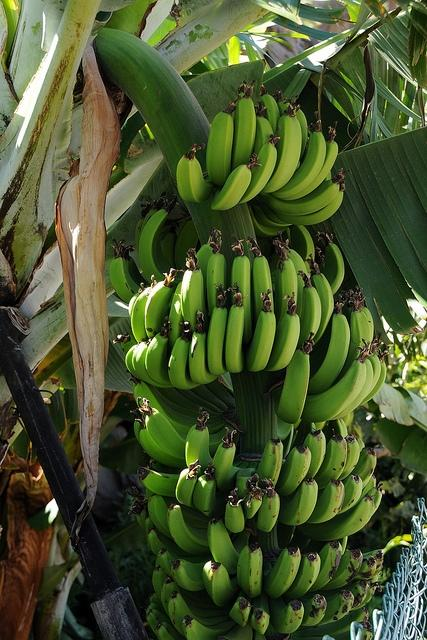banana: (113, 331, 235, 416), (136, 396, 240, 461), (128, 376, 227, 436), (300, 338, 370, 422), (306, 294, 350, 396), (270, 120, 326, 198), (138, 194, 182, 292), (262, 168, 351, 216), (144, 381, 235, 425), (274, 332, 316, 424), (330, 296, 372, 388), (296, 494, 376, 542), (292, 122, 338, 200), (237, 126, 281, 204), (270, 181, 346, 226), (206, 95, 242, 186), (272, 230, 308, 320), (262, 114, 302, 193), (161, 576, 233, 618), (168, 592, 233, 638), (263, 292, 300, 372), (210, 152, 261, 210), (144, 268, 185, 338), (304, 253, 335, 344), (244, 288, 276, 372), (246, 235, 274, 331), (231, 235, 252, 352), (289, 607, 369, 637), (188, 310, 220, 384), (168, 322, 202, 391), (167, 504, 211, 556), (176, 144, 214, 204), (278, 470, 318, 526), (180, 248, 206, 333), (132, 337, 175, 388), (357, 346, 392, 408), (193, 460, 231, 517), (206, 283, 229, 375), (230, 92, 256, 172), (296, 270, 322, 350), (313, 429, 347, 490), (274, 244, 298, 330), (262, 546, 300, 600), (212, 428, 242, 496), (110, 237, 140, 305), (139, 428, 188, 469), (274, 444, 312, 496), (236, 528, 263, 599), (145, 316, 172, 385), (320, 548, 364, 590), (208, 518, 241, 574), (225, 293, 248, 373), (202, 560, 242, 606), (283, 552, 321, 600), (307, 540, 342, 592), (186, 408, 212, 478), (305, 478, 345, 523), (341, 444, 379, 490), (157, 548, 212, 578), (146, 528, 200, 558), (284, 95, 308, 162), (176, 458, 202, 514), (206, 252, 228, 318), (267, 595, 304, 634), (314, 590, 354, 626), (247, 203, 288, 238), (256, 438, 284, 489), (182, 615, 238, 640), (137, 466, 180, 498), (362, 332, 382, 400), (170, 559, 212, 591), (196, 232, 213, 310), (336, 556, 377, 588), (289, 224, 315, 274), (256, 478, 280, 532), (175, 218, 199, 270), (148, 492, 173, 540), (175, 388, 223, 413), (322, 242, 344, 296), (254, 100, 275, 156), (303, 428, 326, 479), (131, 287, 151, 343), (168, 281, 184, 350), (242, 474, 267, 518), (356, 286, 374, 344), (336, 474, 362, 514), (124, 250, 151, 288), (296, 594, 327, 626), (224, 487, 245, 533), (126, 486, 147, 532), (192, 384, 229, 410), (340, 432, 360, 480), (229, 589, 254, 627), (161, 222, 180, 269), (260, 94, 281, 136), (251, 588, 270, 634), (146, 609, 172, 640), (345, 580, 369, 611), (126, 344, 145, 382), (128, 282, 146, 322), (351, 580, 374, 610), (152, 566, 168, 604), (154, 622, 187, 640), (270, 244, 280, 299), (362, 548, 384, 572), (144, 504, 156, 534), (355, 620, 373, 640), (220, 381, 235, 399), (133, 419, 142, 446)
